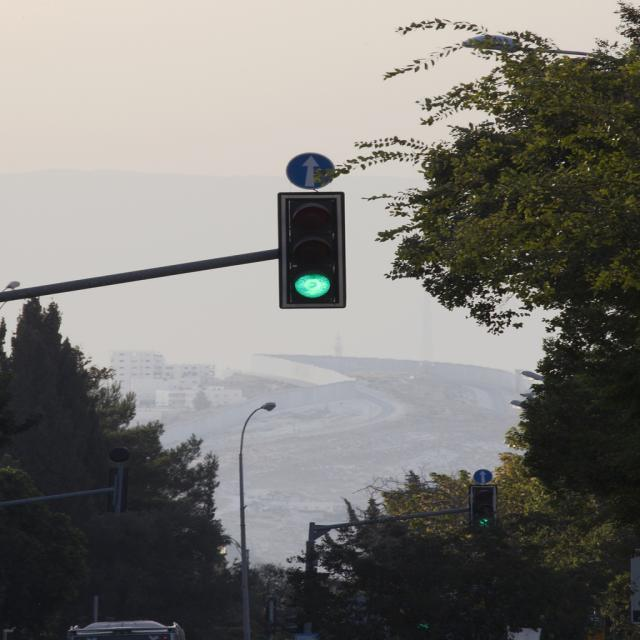traffic light: (279, 193, 343, 309), (469, 486, 498, 528)
